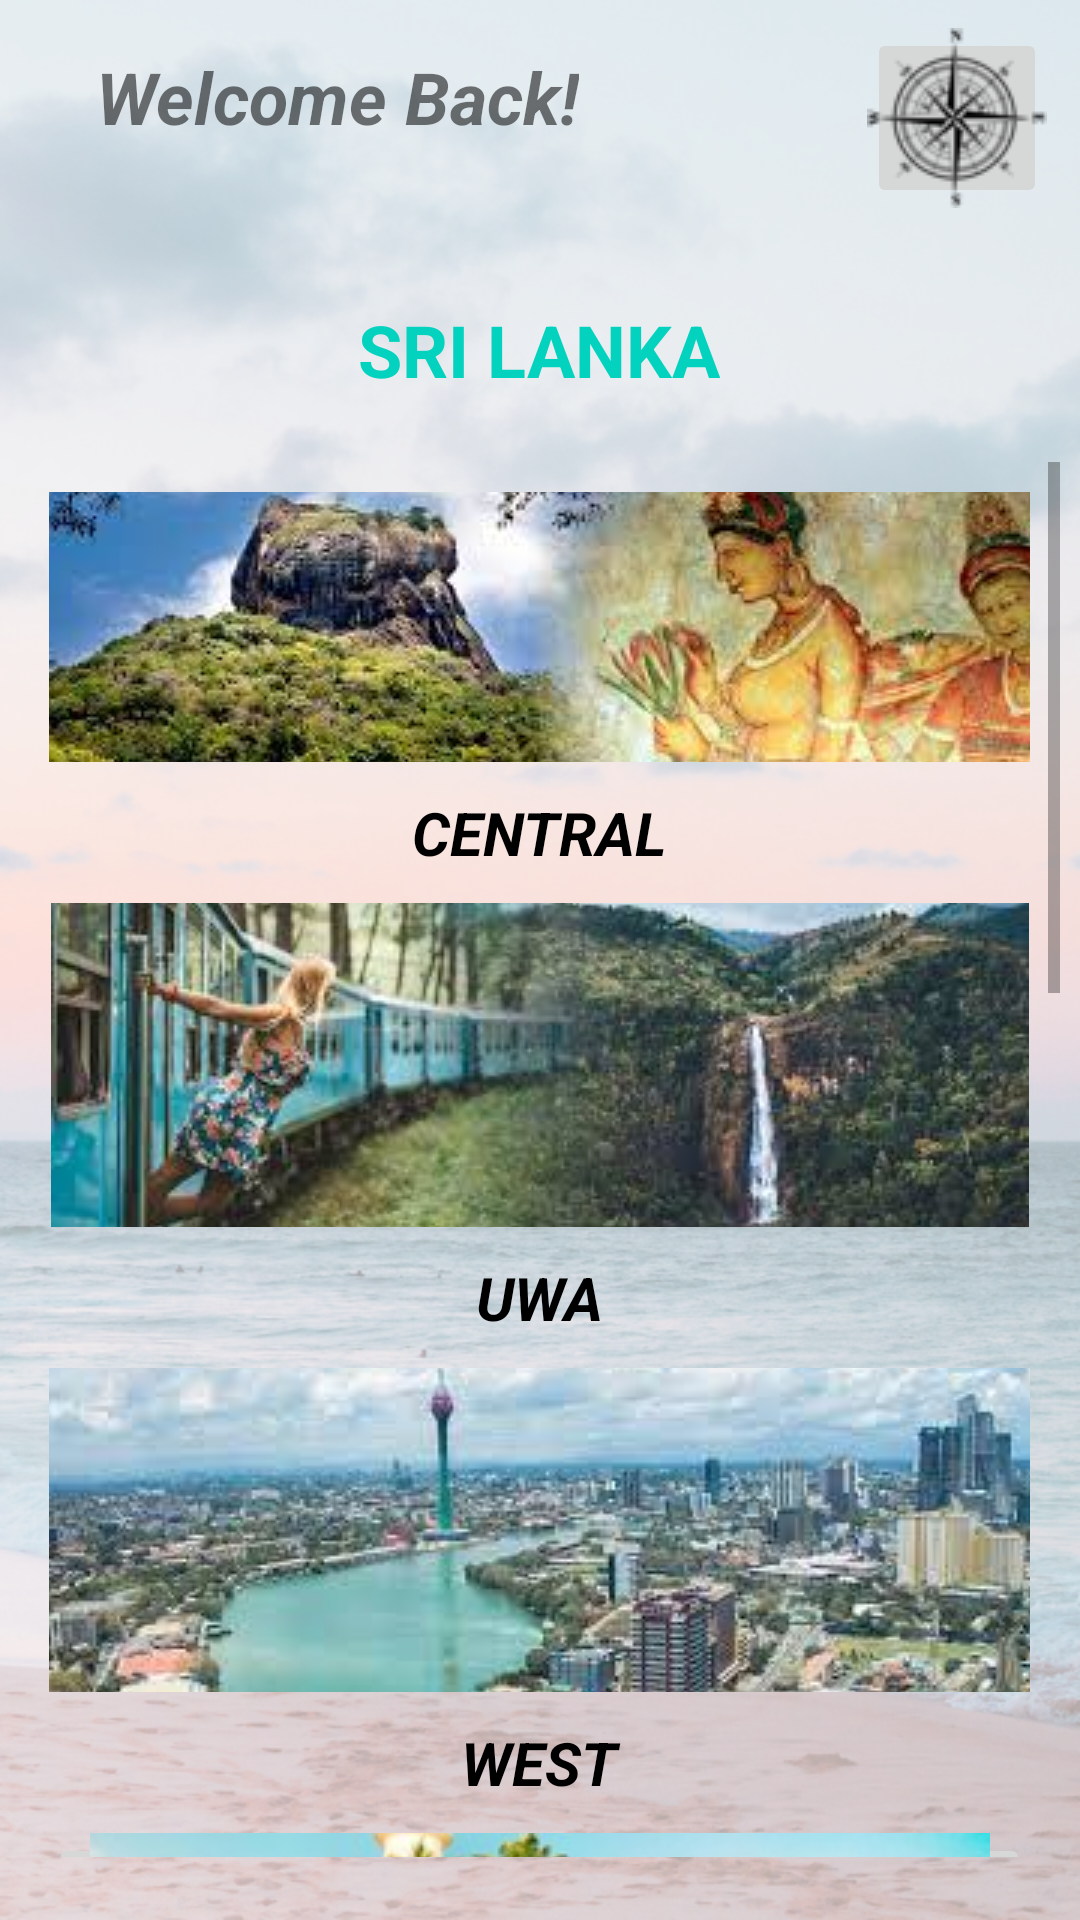

Icon click points for this 1080 × 1920 phone screenshot, format point (x, y):
compass: point (957, 118)
